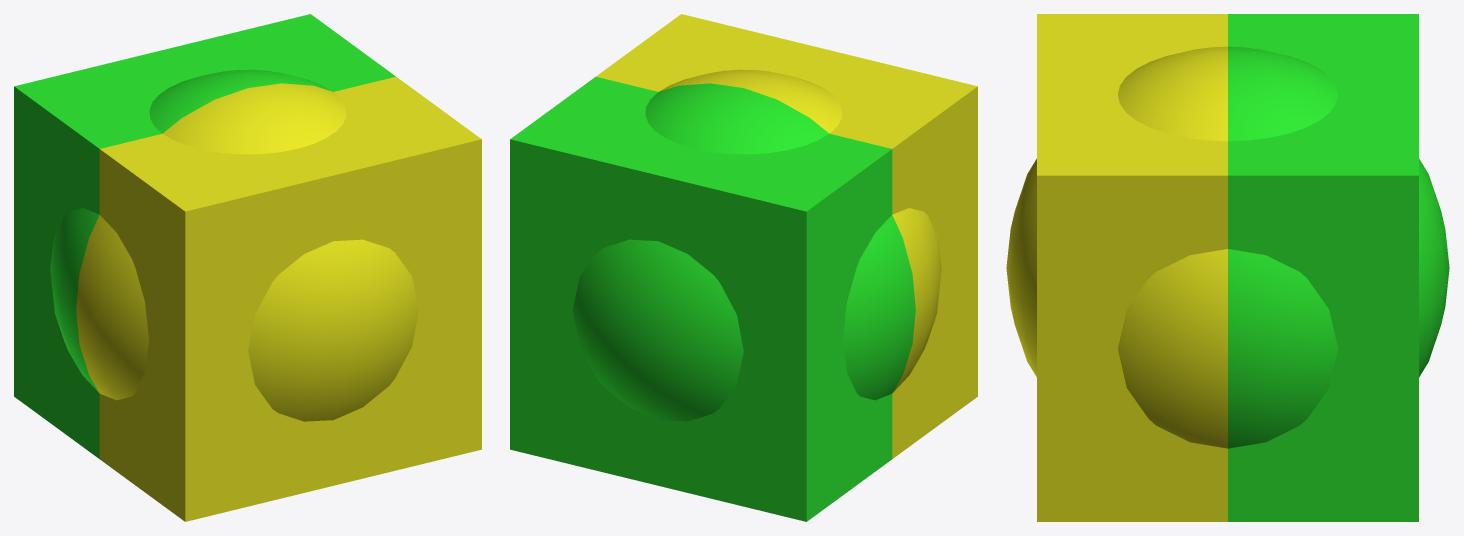
3 renders of one model, left to right at view 1: azimuth 30°, elevation 25°; view 2: azimuth 150°, elevation 25°; view 3: azimuth 270°, elevation 25°, orthographic. The views are drawn at different scales.
Parts seen in each view (by area): view 1: Cube, Sphere; view 2: Cube, Sphere; view 3: Cube, Sphere.
Part boxes in pixels (x1,y1,x2,y2): Cube: (14,14,481,521); Sphere: (50,69,418,421); Cube: (510,14,977,521); Sphere: (573,69,941,421); Cube: (1037,14,1418,521); Sphere: (1006,46,1449,448).
Size of the model in its own units: 2.32 by 2.32 by 2.32.
